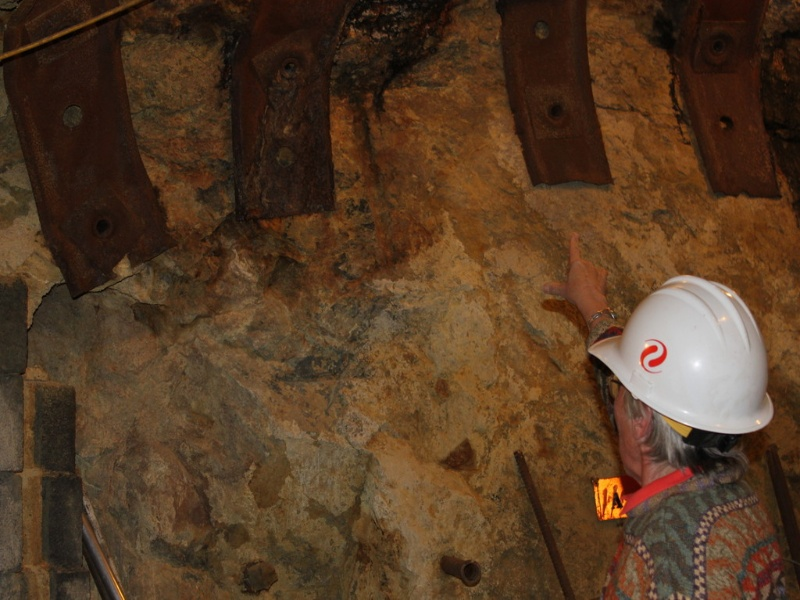helmet: (591, 273, 776, 434)
